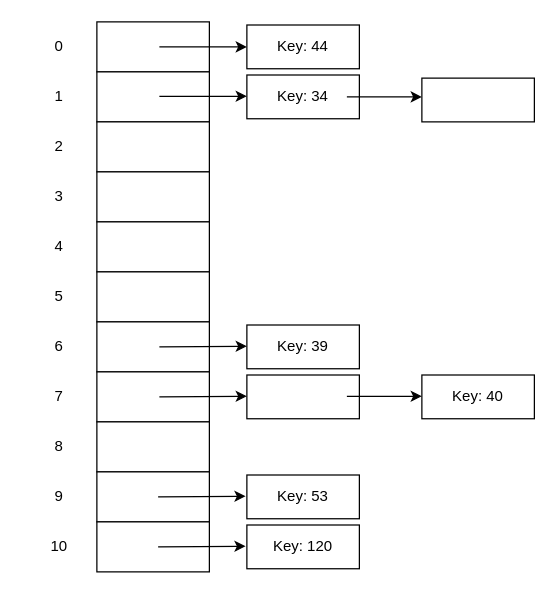
This 556x594 diagram has some shape labels left out. The shapes that lost their labels are listed below. From the top down, each one's box as (x1, y1, x2, y2) in pixels, then its label:
(421, 77, 534, 122): Key: 45
(246, 374, 359, 419): Key: 29
